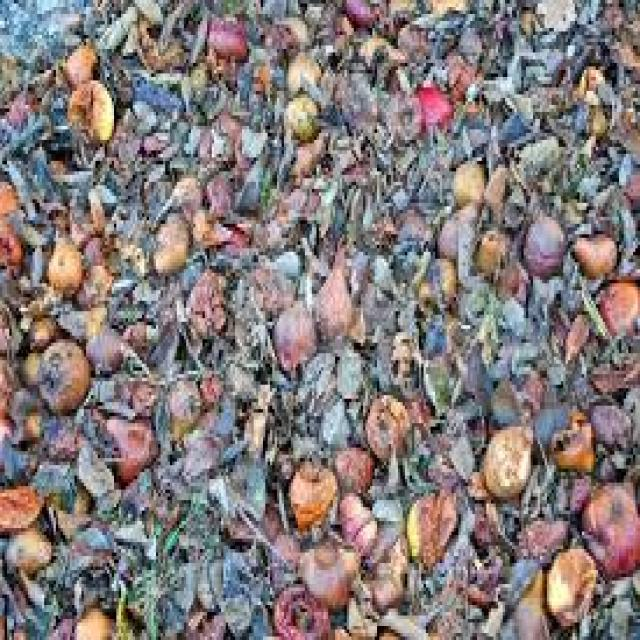biodegradable: (0, 0, 638, 637), (580, 479, 638, 577), (98, 402, 161, 483), (293, 532, 354, 605), (33, 336, 89, 413), (545, 542, 598, 623), (403, 483, 456, 563), (287, 451, 338, 532), (312, 238, 351, 343), (480, 420, 531, 500), (498, 567, 556, 637), (272, 577, 335, 637), (270, 280, 312, 367), (44, 462, 93, 535), (3, 504, 54, 574), (356, 532, 403, 602), (221, 483, 277, 539), (575, 53, 610, 137), (519, 210, 563, 276), (552, 409, 596, 472), (66, 77, 110, 140), (445, 45, 482, 119), (365, 388, 405, 455), (161, 374, 200, 441), (84, 318, 130, 374), (393, 10, 440, 63), (42, 235, 81, 298), (596, 277, 638, 333), (412, 77, 454, 133), (0, 479, 44, 532), (186, 200, 233, 249), (436, 196, 480, 248), (205, 10, 247, 63), (340, 490, 375, 553), (384, 70, 419, 133), (177, 598, 233, 637), (154, 206, 186, 273), (65, 598, 119, 637), (280, 88, 317, 144), (249, 256, 289, 305), (566, 228, 612, 270), (419, 259, 456, 311), (331, 441, 373, 486), (270, 7, 312, 52), (17, 273, 61, 315), (447, 154, 484, 203), (201, 161, 238, 210), (517, 518, 566, 553), (61, 39, 96, 88), (5, 80, 37, 133), (166, 168, 203, 210), (75, 262, 114, 301), (284, 46, 319, 88), (472, 220, 503, 266), (382, 0, 414, 42), (482, 161, 507, 210), (121, 311, 158, 343), (342, 595, 370, 637), (263, 525, 293, 563), (342, 0, 382, 28), (26, 308, 54, 346), (0, 356, 16, 419), (0, 300, 16, 356), (14, 409, 42, 441), (0, 217, 21, 259), (425, 0, 465, 17), (0, 171, 16, 213), (370, 623, 403, 637), (333, 616, 354, 637), (44, 154, 65, 168)
